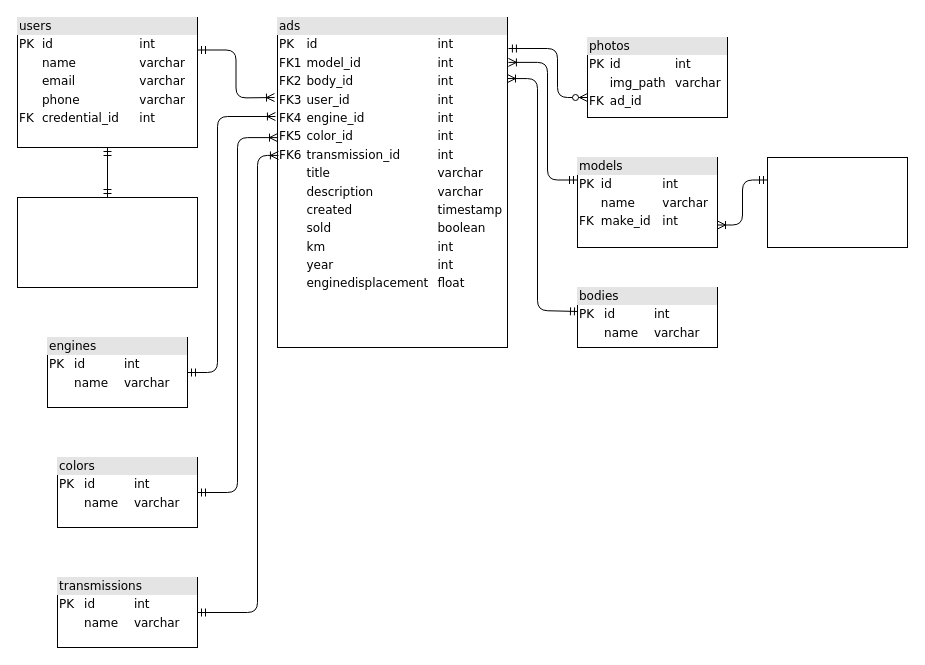
Image size: 925x665. Some labels were removed from this diagram. The centre of each missing label's shape, as x and y in pixels:
credentials PK id int hash bytea salt bytea: the point at 107,242
makes PK id int name varchar: the point at 837,202
